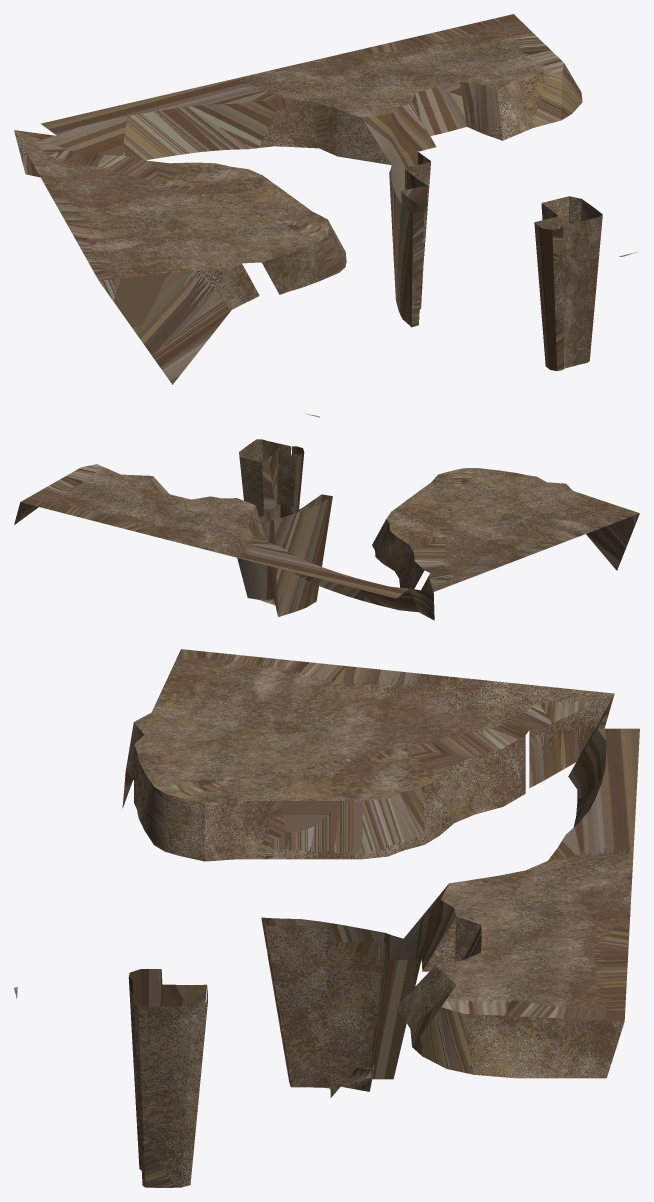
File: suelo_exterior_1.obj
3 views of the same model, one above another, from view 1: azimuth 30°, elevation 25°; view 2: azimuth 150°, elevation 25°; view 3: azimuth 270°, elevation 25° (orthographic). The views are drawn at different scales.
Visible parts, largest first — view 1: suelo_exterior_1; view 2: suelo_exterior_1; view 3: suelo_exterior_1.
Boxes of the visible parts, x1,y1,x2,y2 form: suelo_exterior_1: [14, 14, 637, 384]; suelo_exterior_1: [14, 413, 639, 620]; suelo_exterior_1: [14, 649, 639, 1187].
Bounding box in the file's own units: 1054 × 323 × 739.
